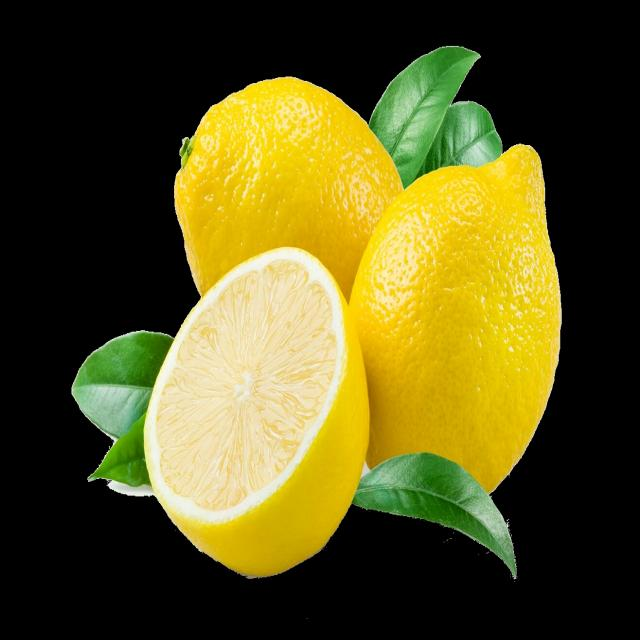lemon: (347, 139, 578, 562), (140, 256, 376, 579), (166, 71, 401, 327)
